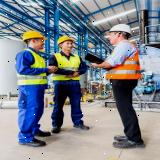Helmet: (104, 23, 133, 38), (22, 30, 46, 42), (56, 36, 75, 48)
Vest: (103, 40, 141, 80), (14, 48, 48, 90), (50, 51, 81, 88)
